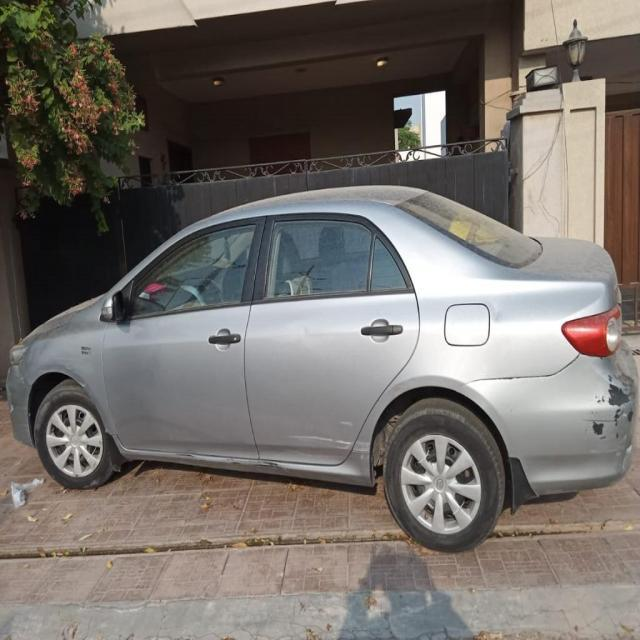scratch: (273, 415, 372, 459), (592, 374, 633, 458)
